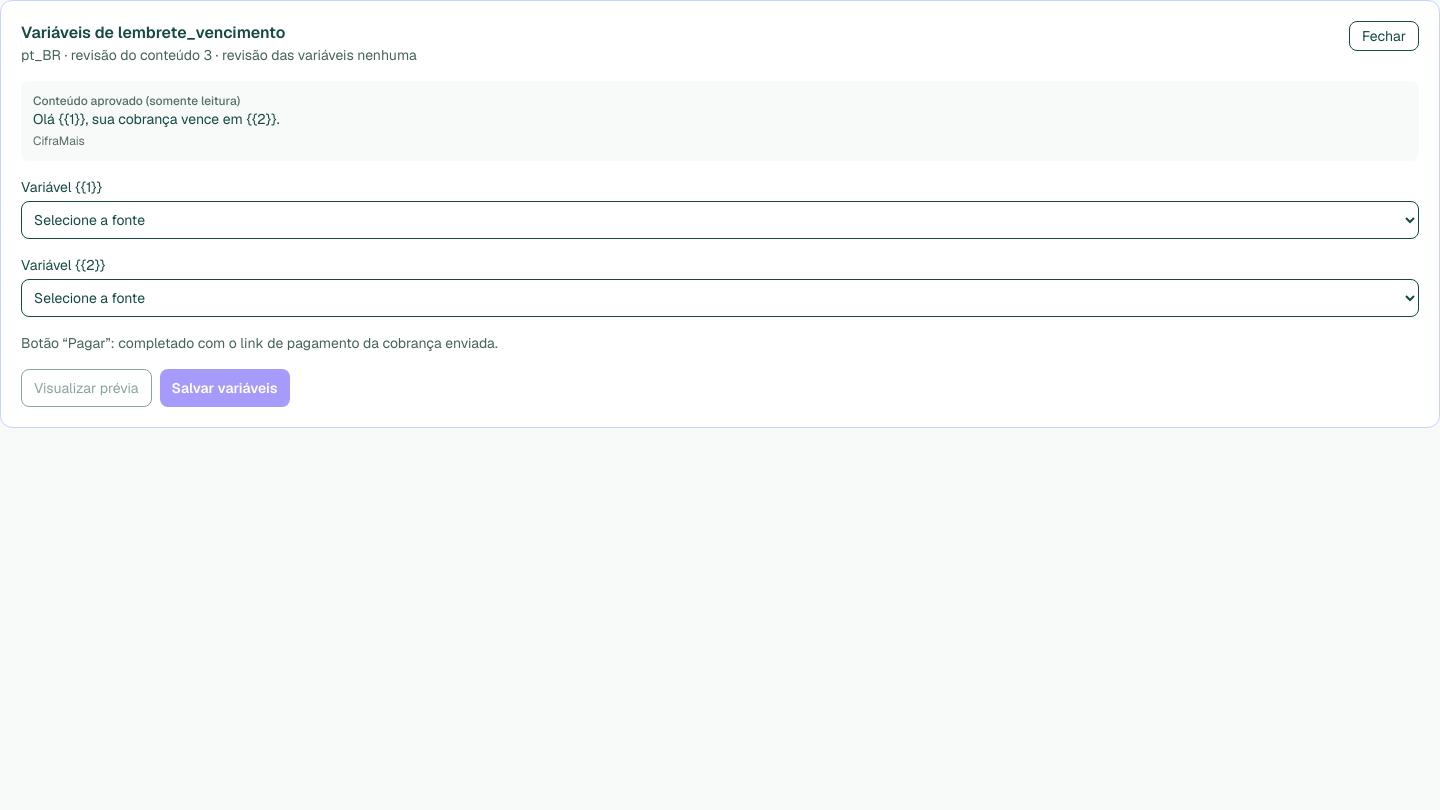
Test: TemplateMappingEditor › reloads on a version conflict instead of overwriting
Select "Nome do devedor" in the dropdown labelled "Variável {{1}}". click: (720, 220)
box: [21,201,1419,239]
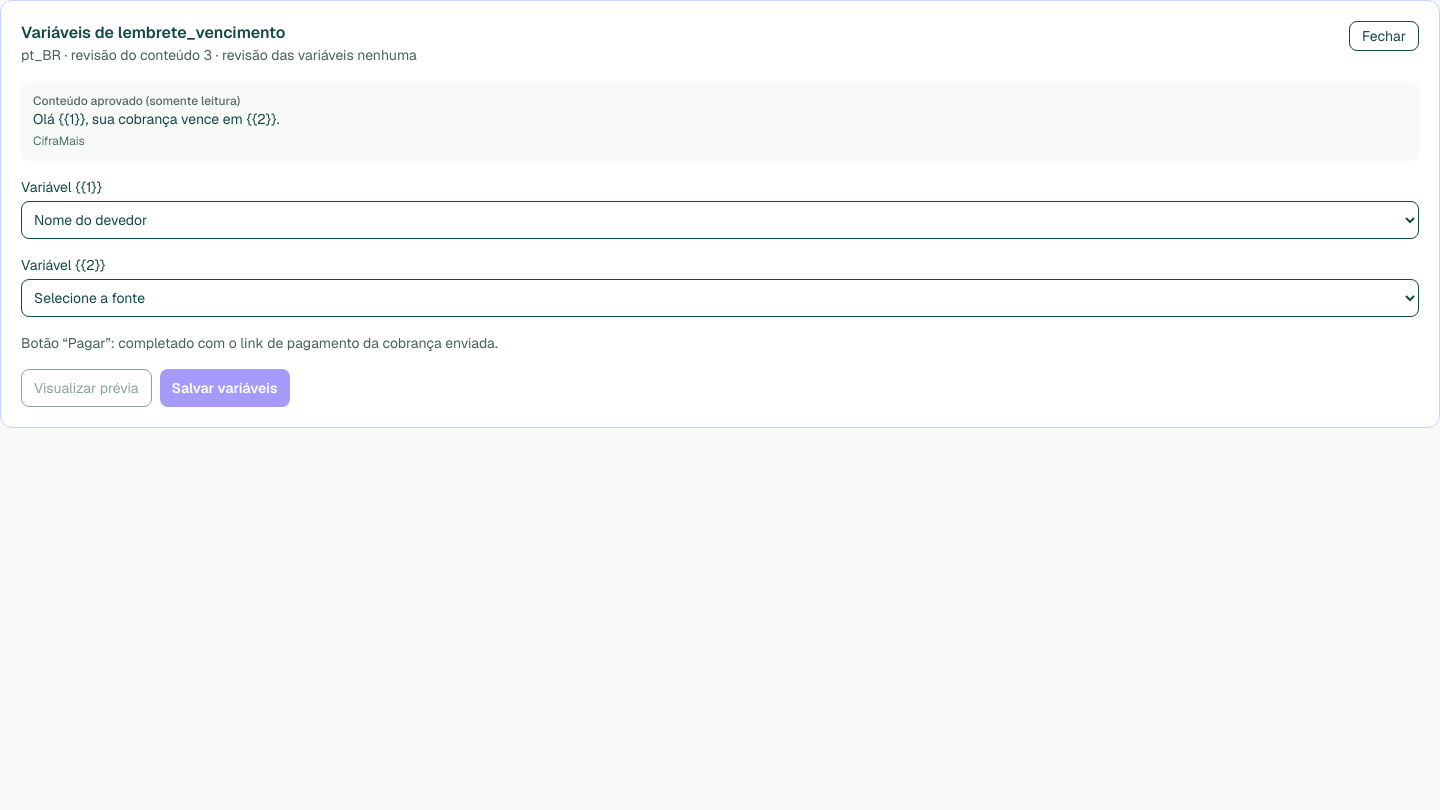
Select "Texto fixo" in the dropdown labelled "Variável {{2}}". click: (720, 298)
box: [21,279,1419,317]
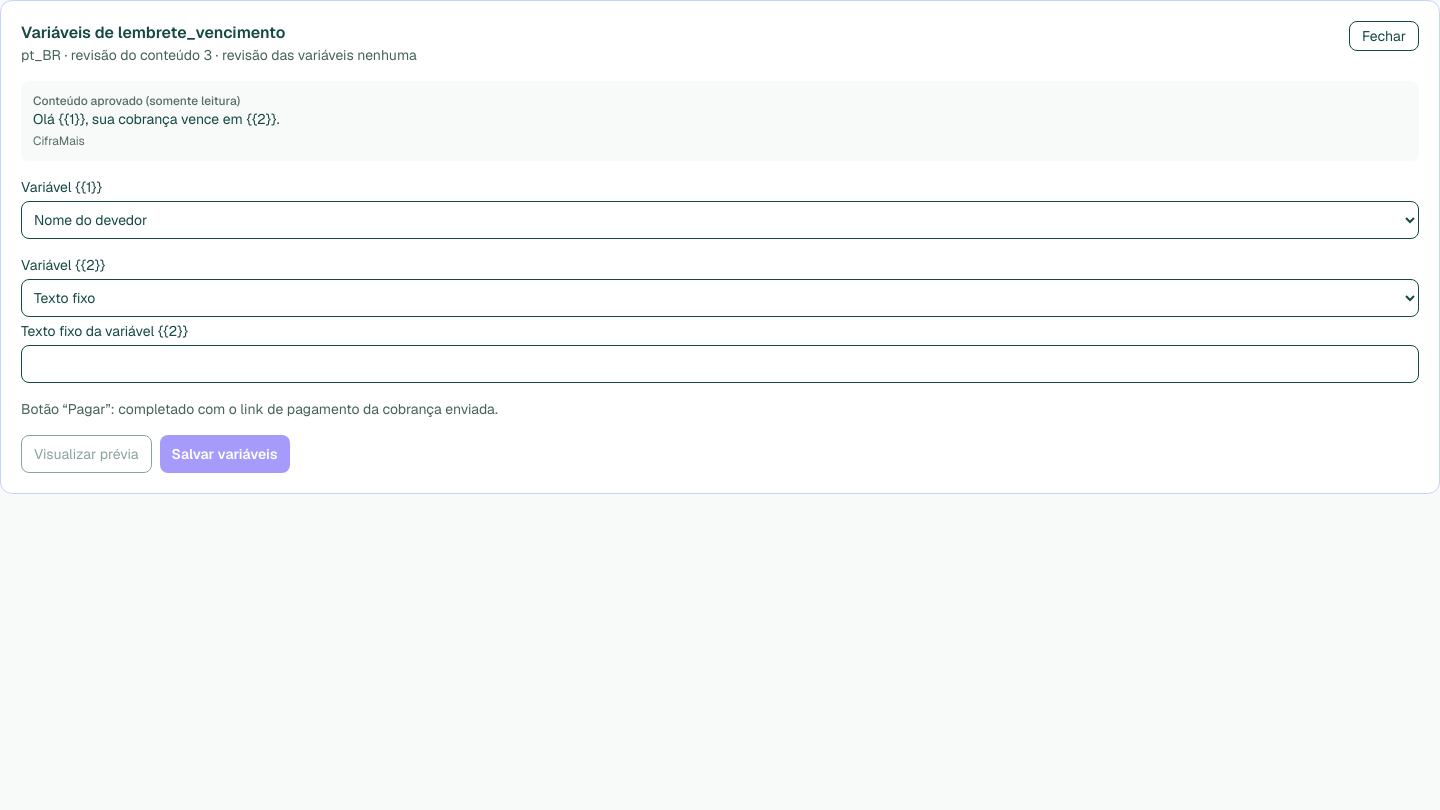
Type "breve" into the field labelled "Texto fixo da variável {{2}}". click: (720, 364)
box: [21,345,1419,383]
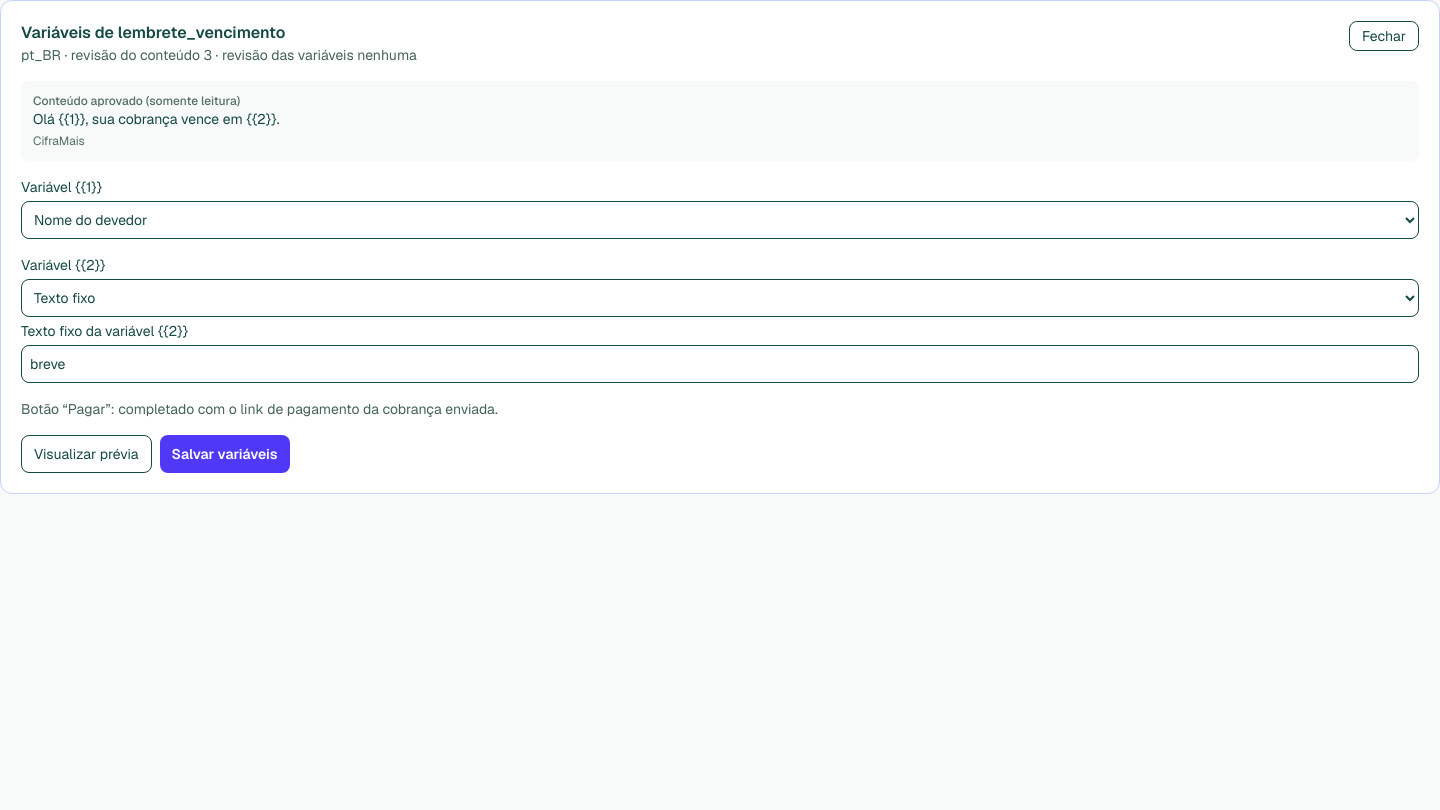
Click the button "Visualizar prévia". click: click(86, 454)
box: [21,435,152,473]
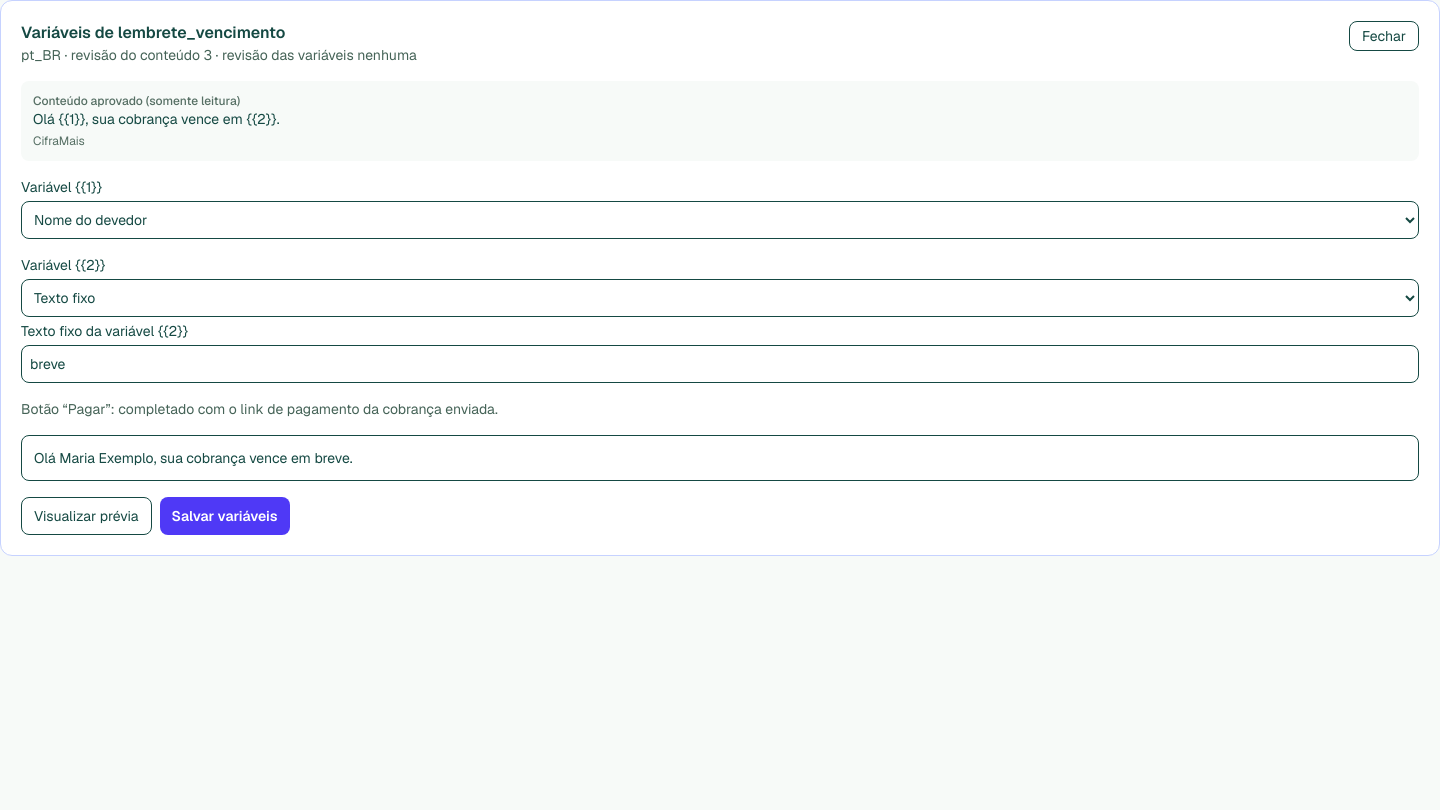
Expected: the element named "Prévia fictícia" is shown, [21,435,1419,481]
Click the button "Salvar variáveis". click: click(224, 516)
box: [160,497,290,535]
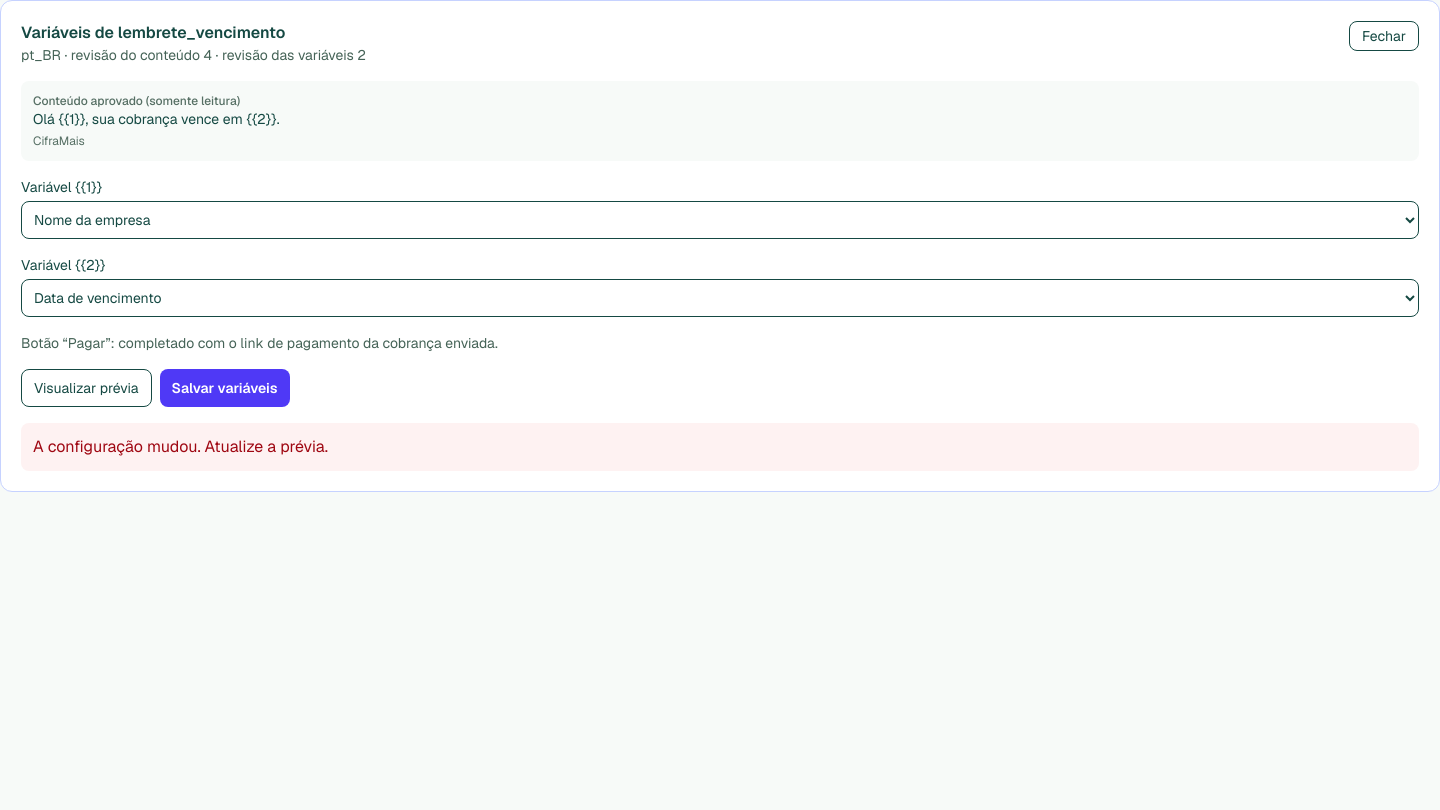
Expected: the text "A configuração mudou. Atualize a prévia." is shown, [21,423,1419,471]
Expected: the text "pt_BR · revisão do conteúdo 4 · revisão das variáveis 2" is shown, [21,45,366,65]
